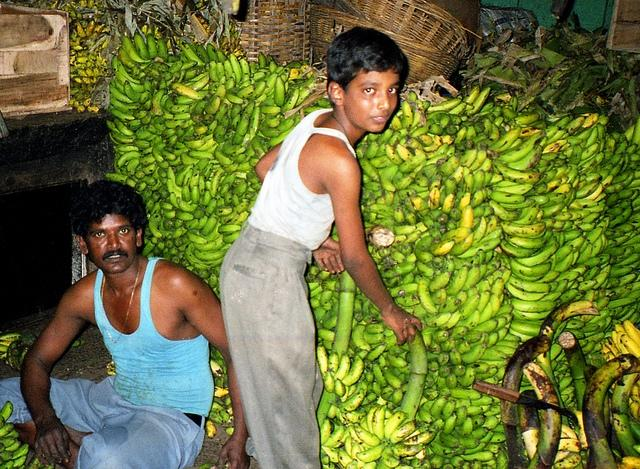banana: (503, 136, 549, 172), (497, 130, 545, 164), (492, 159, 542, 184), (512, 242, 560, 266), (112, 56, 143, 92), (509, 257, 553, 278), (456, 238, 502, 258), (508, 274, 552, 294), (488, 127, 521, 152), (417, 276, 438, 314), (122, 35, 150, 63), (497, 220, 546, 236), (384, 411, 408, 443), (340, 354, 364, 386), (401, 426, 439, 446), (179, 38, 206, 66), (453, 293, 481, 320), (511, 297, 561, 312), (466, 87, 491, 116), (503, 232, 548, 248), (485, 187, 527, 204), (186, 242, 212, 269), (198, 216, 224, 243), (389, 421, 417, 446), (446, 265, 468, 296), (448, 231, 474, 256), (490, 201, 522, 221), (372, 402, 388, 442), (354, 423, 380, 446), (209, 167, 228, 198), (414, 234, 434, 263), (451, 310, 480, 330), (171, 82, 203, 100), (428, 238, 456, 258), (400, 154, 428, 174), (415, 164, 438, 188), (322, 423, 344, 448), (462, 343, 488, 364), (6, 340, 22, 374), (441, 226, 473, 243), (460, 264, 480, 291), (351, 325, 371, 352), (380, 164, 399, 192), (430, 394, 451, 419), (620, 334, 640, 359), (510, 321, 541, 337), (280, 88, 299, 114), (176, 162, 195, 186), (457, 364, 476, 388), (392, 442, 422, 457), (623, 320, 640, 346), (564, 116, 586, 136), (423, 312, 452, 327), (366, 342, 387, 362), (335, 352, 350, 380), (124, 80, 143, 102), (450, 387, 482, 400), (539, 202, 565, 218), (584, 319, 607, 337), (410, 121, 434, 138), (230, 54, 242, 88), (459, 147, 478, 168), (548, 271, 581, 283), (239, 141, 256, 164), (353, 294, 367, 321), (431, 112, 452, 130), (373, 362, 388, 387), (580, 183, 602, 200), (386, 350, 408, 367), (458, 204, 474, 227), (452, 125, 468, 148), (471, 168, 485, 194), (200, 216, 218, 236), (605, 337, 623, 357), (251, 135, 266, 159), (547, 165, 568, 182), (413, 232, 430, 253), (176, 196, 198, 212), (274, 77, 286, 106), (443, 412, 458, 435), (578, 156, 596, 175), (10, 443, 30, 460), (534, 270, 560, 283), (370, 155, 396, 168), (438, 298, 462, 312), (576, 243, 592, 264), (275, 118, 296, 134), (408, 138, 426, 156), (581, 142, 599, 160), (159, 216, 173, 239), (440, 432, 460, 448), (606, 298, 638, 308), (166, 178, 182, 198), (236, 84, 256, 100), (558, 439, 582, 452), (367, 406, 378, 434), (448, 326, 470, 340), (220, 172, 237, 190), (615, 253, 640, 265), (156, 37, 168, 62), (548, 129, 568, 144), (616, 307, 636, 322), (567, 144, 582, 164), (441, 400, 456, 420), (215, 102, 228, 125), (208, 234, 225, 251), (78, 40, 95, 57), (568, 238, 586, 254), (396, 144, 414, 160), (112, 132, 136, 144), (370, 204, 394, 216), (467, 427, 489, 440), (323, 311, 338, 330), (152, 142, 166, 162), (586, 300, 598, 323), (520, 126, 543, 138), (193, 158, 210, 174), (584, 265, 601, 281), (213, 126, 228, 144), (403, 230, 422, 244), (126, 158, 140, 177), (189, 168, 200, 192), (429, 186, 440, 210), (602, 246, 626, 257), (406, 182, 428, 194), (495, 340, 521, 350), (458, 191, 471, 211), (218, 224, 241, 235), (464, 172, 475, 195), (181, 152, 199, 166), (182, 168, 194, 189), (180, 124, 194, 142), (456, 405, 468, 426), (236, 118, 250, 136), (137, 163, 158, 175), (617, 274, 637, 286), (605, 192, 620, 208), (232, 181, 248, 196), (526, 195, 550, 205), (224, 58, 234, 82), (187, 232, 207, 244), (620, 234, 640, 246), (397, 188, 417, 200), (394, 283, 418, 293), (603, 136, 617, 153), (562, 230, 580, 243), (566, 168, 579, 186), (209, 61, 220, 82), (628, 401, 640, 420), (202, 162, 214, 181), (250, 72, 266, 86), (182, 68, 198, 82), (310, 284, 324, 300), (608, 215, 625, 228), (460, 438, 480, 449), (260, 128, 282, 138), (426, 154, 448, 164), (192, 242, 216, 251), (612, 172, 630, 184), (5, 438, 20, 452), (184, 139, 205, 149), (205, 120, 218, 136), (582, 340, 595, 356), (408, 90, 416, 116), (454, 398, 471, 410), (160, 128, 177, 140), (223, 213, 240, 225), (188, 72, 208, 82), (136, 176, 156, 186), (620, 153, 630, 173), (543, 142, 561, 153), (598, 264, 612, 278), (0, 436, 16, 448), (446, 374, 458, 390), (140, 154, 156, 166), (127, 119, 143, 131), (345, 412, 361, 424), (214, 208, 233, 218), (571, 290, 585, 303), (438, 351, 450, 366), (190, 186, 200, 204), (602, 175, 614, 190), (581, 322, 599, 332), (474, 362, 489, 374), (86, 18, 96, 36), (330, 296, 339, 316), (424, 388, 439, 400), (582, 212, 600, 222), (618, 189, 634, 200), (383, 190, 394, 206), (528, 120, 547, 129), (596, 123, 606, 140), (393, 128, 410, 138), (502, 268, 512, 285), (143, 68, 160, 78), (612, 307, 625, 320), (165, 135, 178, 148), (624, 144, 638, 156), (609, 164, 621, 178), (423, 215, 435, 229), (612, 200, 630, 209), (580, 238, 590, 254), (552, 212, 572, 220), (568, 200, 584, 210), (136, 130, 152, 140), (144, 80, 154, 96), (438, 366, 451, 378), (450, 113, 462, 126), (175, 164, 188, 176), (481, 206, 494, 218), (608, 155, 622, 166), (316, 270, 331, 280), (340, 386, 349, 402), (432, 257, 444, 269), (436, 212, 448, 224), (432, 418, 444, 430), (568, 210, 581, 221), (428, 343, 441, 354), (177, 212, 194, 220), (364, 182, 381, 190), (133, 110, 148, 119), (351, 443, 366, 452), (610, 132, 622, 143), (239, 78, 252, 88), (277, 66, 290, 76), (173, 140, 186, 150), (220, 183, 230, 196), (542, 229, 552, 242), (572, 249, 580, 265), (268, 118, 282, 127), (134, 71, 148, 80), (560, 386, 574, 395), (577, 179, 587, 191), (592, 216, 604, 226), (339, 412, 349, 424), (198, 176, 204, 196), (548, 280, 558, 292), (220, 116, 229, 129), (363, 314, 372, 326), (176, 122, 189, 130), (1, 460, 14, 468), (160, 72, 173, 80), (537, 166, 550, 174), (198, 90, 215, 96), (402, 204, 409, 218), (168, 54, 180, 62), (604, 322, 612, 334), (550, 254, 556, 270), (572, 176, 580, 188), (72, 76, 84, 84), (131, 66, 140, 76), (233, 178, 247, 184), (148, 116, 158, 124), (78, 69, 88, 77), (412, 266, 420, 276), (466, 140, 474, 150), (392, 202, 402, 210), (352, 317, 358, 330), (209, 83, 219, 90), (93, 68, 100, 78), (208, 158, 219, 164), (84, 88, 90, 99), (152, 80, 160, 88), (266, 92, 274, 100), (228, 404, 234, 414), (76, 42, 84, 46)
